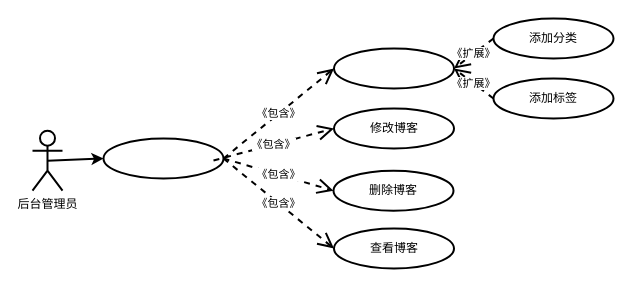
Some shapes in this 631 by 286 pixel diagram are drawn without their labels. The centre of each missing label's shape, as x and y in pixels:
"博客管理" goes at point 163,158.
"添加博客" goes at point 393,68.
